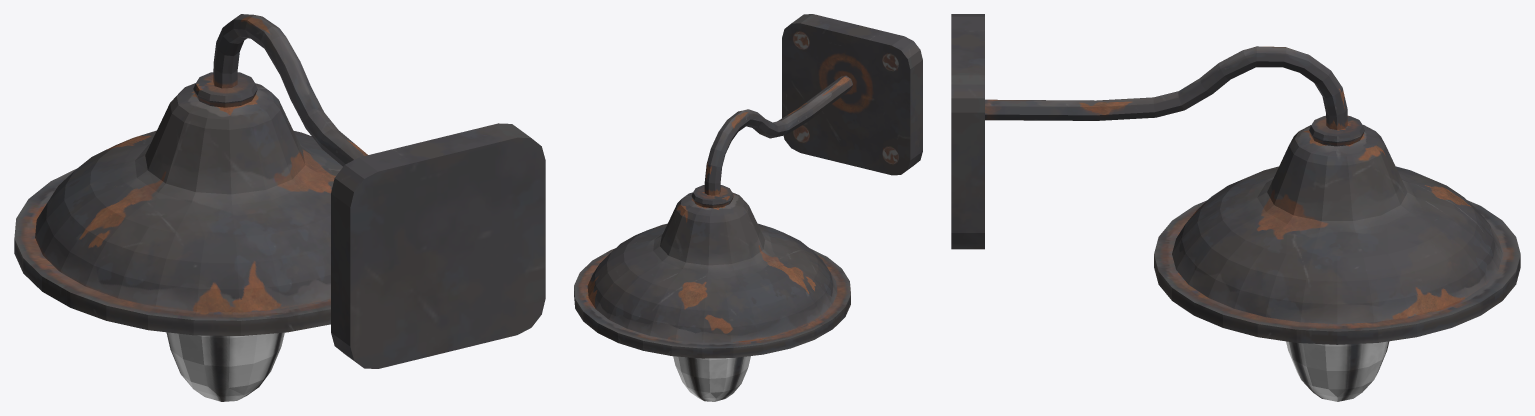
File: P_Lamp_009_S1_M02.obj
3 views of the same model, side by side, from view 1: azimuth 30°, elevation 25°; view 2: azimuth 150°, elevation 25°; view 3: azimuth 270°, elevation 25° (orthographic). The views are drawn at different scales.
Bounding box in the file's own units: 0.6972 × 0.7429 × 1.08.
Materials: 2 (2 with a texture image).
